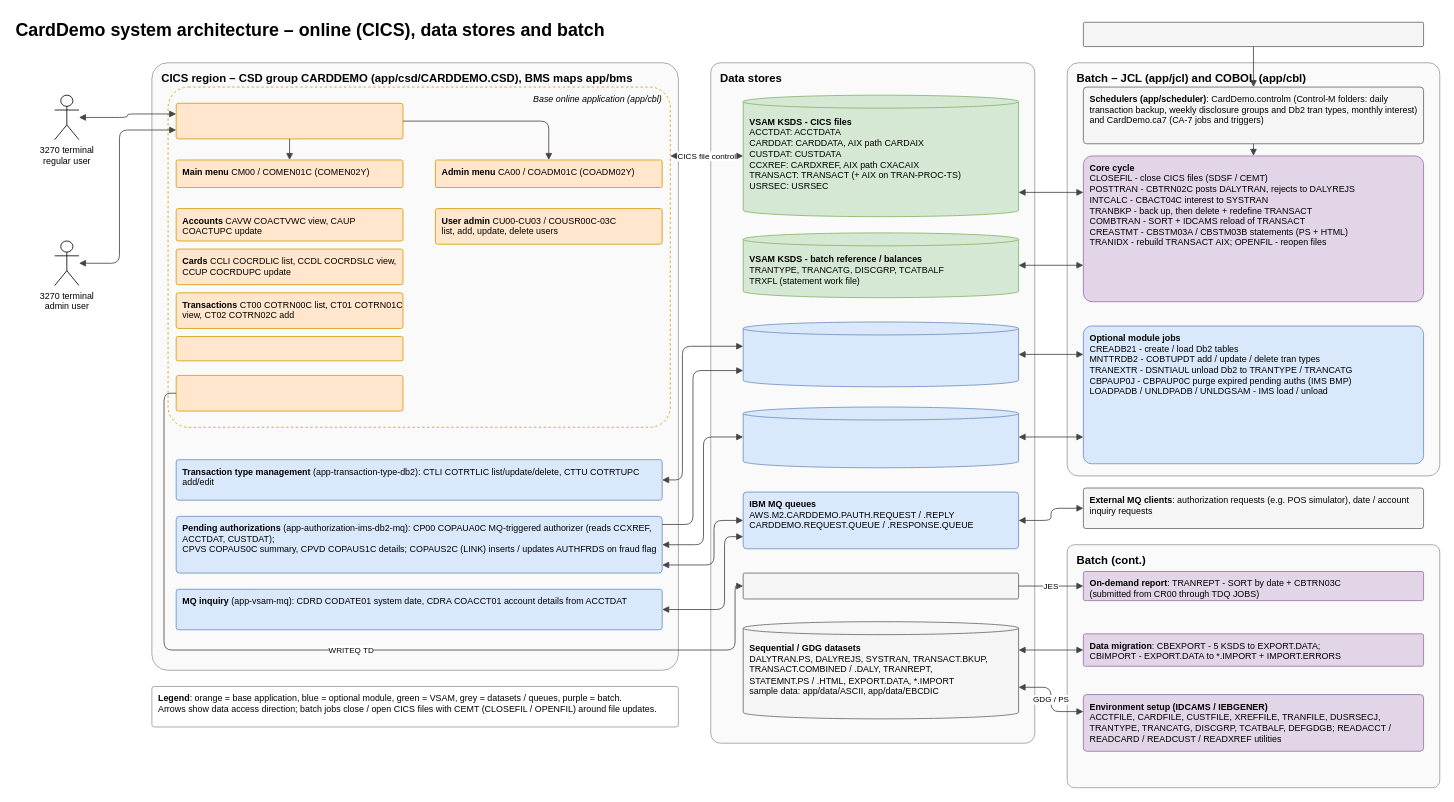
This 1454x802 diagram has some shape labels left out. The centre of each missing label's shape, as x and y in pixels:
"Bill payment CB00 COBIL00C" belongs at pixel 289 348.
"CICS TDQ JOBS > internal reader (JES)" belongs at pixel 880 585.
"Db2 (schema CARDDEMO) TRANSACTION_TYPE, TRANSACTION_TYPE_CATEGORY AUTHFRDS" belongs at pixel 880 354.
"IMS DB DBPAUTP0 (HIDAM): PAUTSUM0 > PAUTDTL1 DBPAUTX0: PAUTINDX" belongs at pixel 880 437.
"Operations : Control-M, CA-7 or manual job submission" belongs at pixel 1253 34.
"Sign-on CC00 / COSGN00C validates USRSEC, routes by user type" belongs at pixel 289 120.
"Transaction reports CR00 CORPT00C writes TRANREPT JCL to TDQ JOBS" belongs at pixel 289 393.
